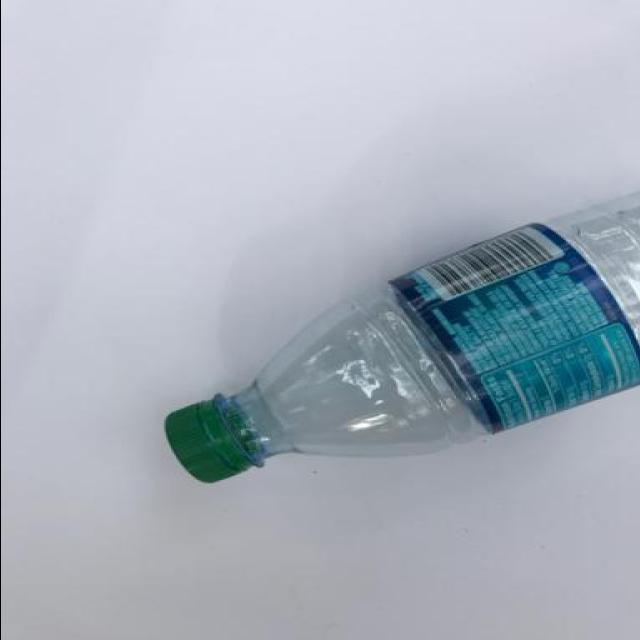PET: (157, 187, 635, 485)
